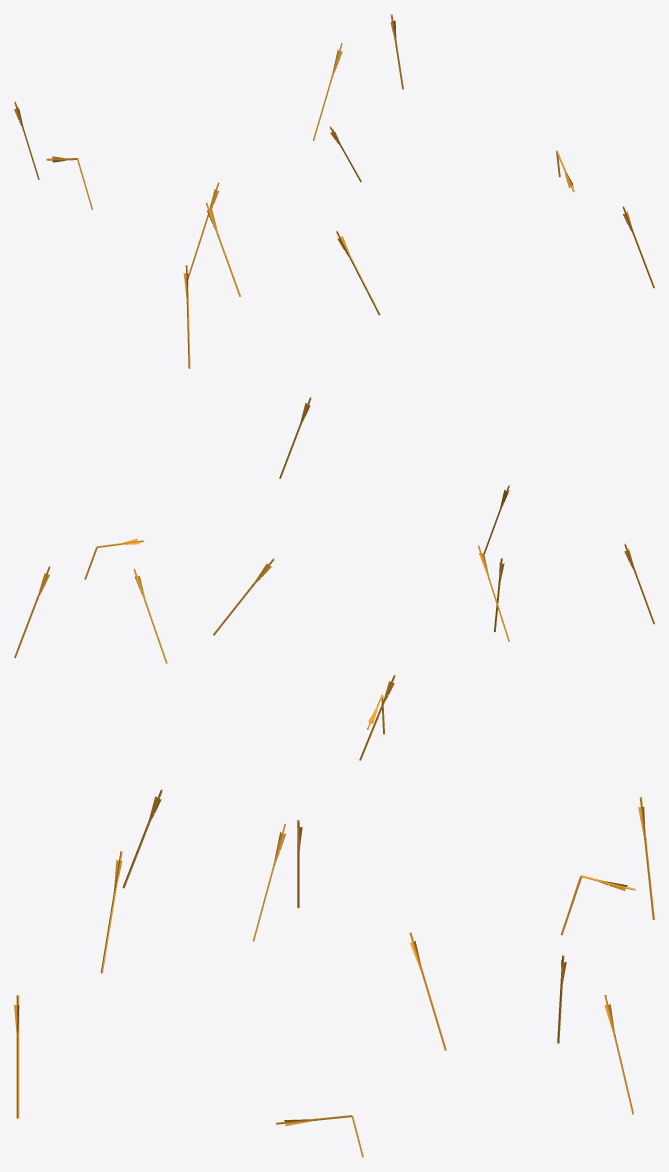
File: SM_Arrows_Inground_B_Fantasy.fbx
3 views of the same model, one above another, from view 1: azimuth 30°, elevation 25°; view 2: azimuth 150°, elevation 25°; view 3: azimuth 270°, elevation 25° (orthographic). The views are drawn at different scales.
Parts seen in each view (by area): view 1: arrows-inground-b-fantasy; view 2: arrows-inground-b-fantasy; view 3: arrows-inground-b-fantasy.
Boxes of the visible parts, left/top/right/bottom form: arrows-inground-b-fantasy: left=14, top=14, right=654, bottom=368; arrows-inground-b-fantasy: left=14, top=397, right=654, bottom=760; arrows-inground-b-fantasy: left=14, top=789, right=654, bottom=1157.
Bounding box in the file's own units: 4.69 × 1.03 × 4.64.
